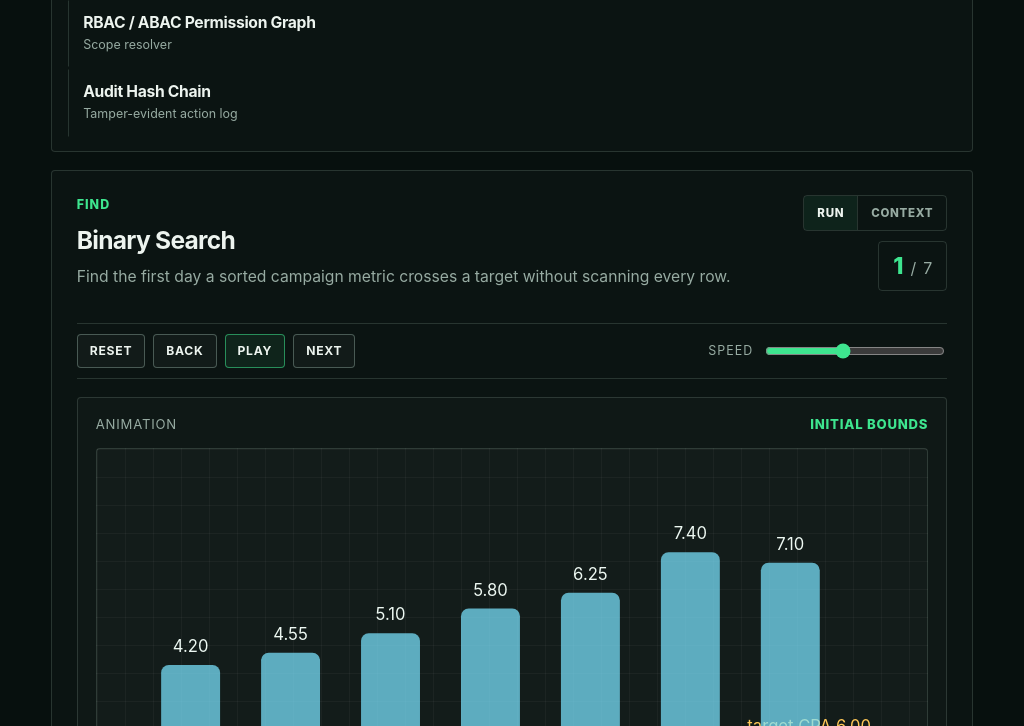
Test case: AlgorithmLabPage › advances steps with the next button
This screenshot has width=1024, height=726.
(page scrolled)
Click the button "Next" at (324, 351), box left=293, top=334, right=355, bottom=368
(page scrolled)
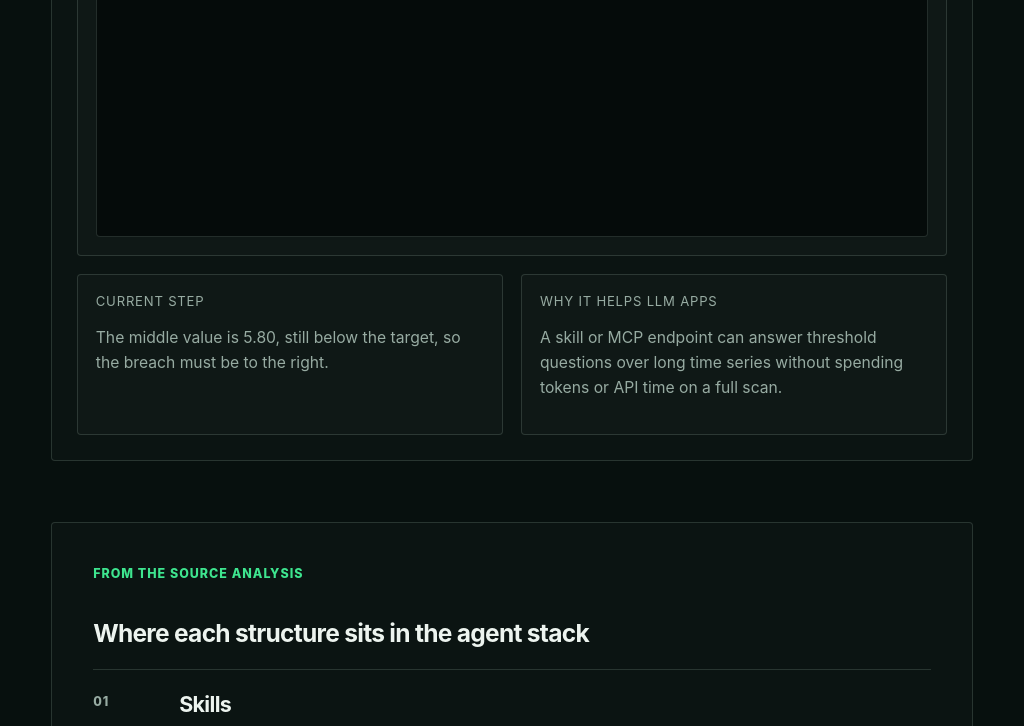
Result: the text "middle value is 5.80" is shown at left=96, top=328, right=461, bottom=372
